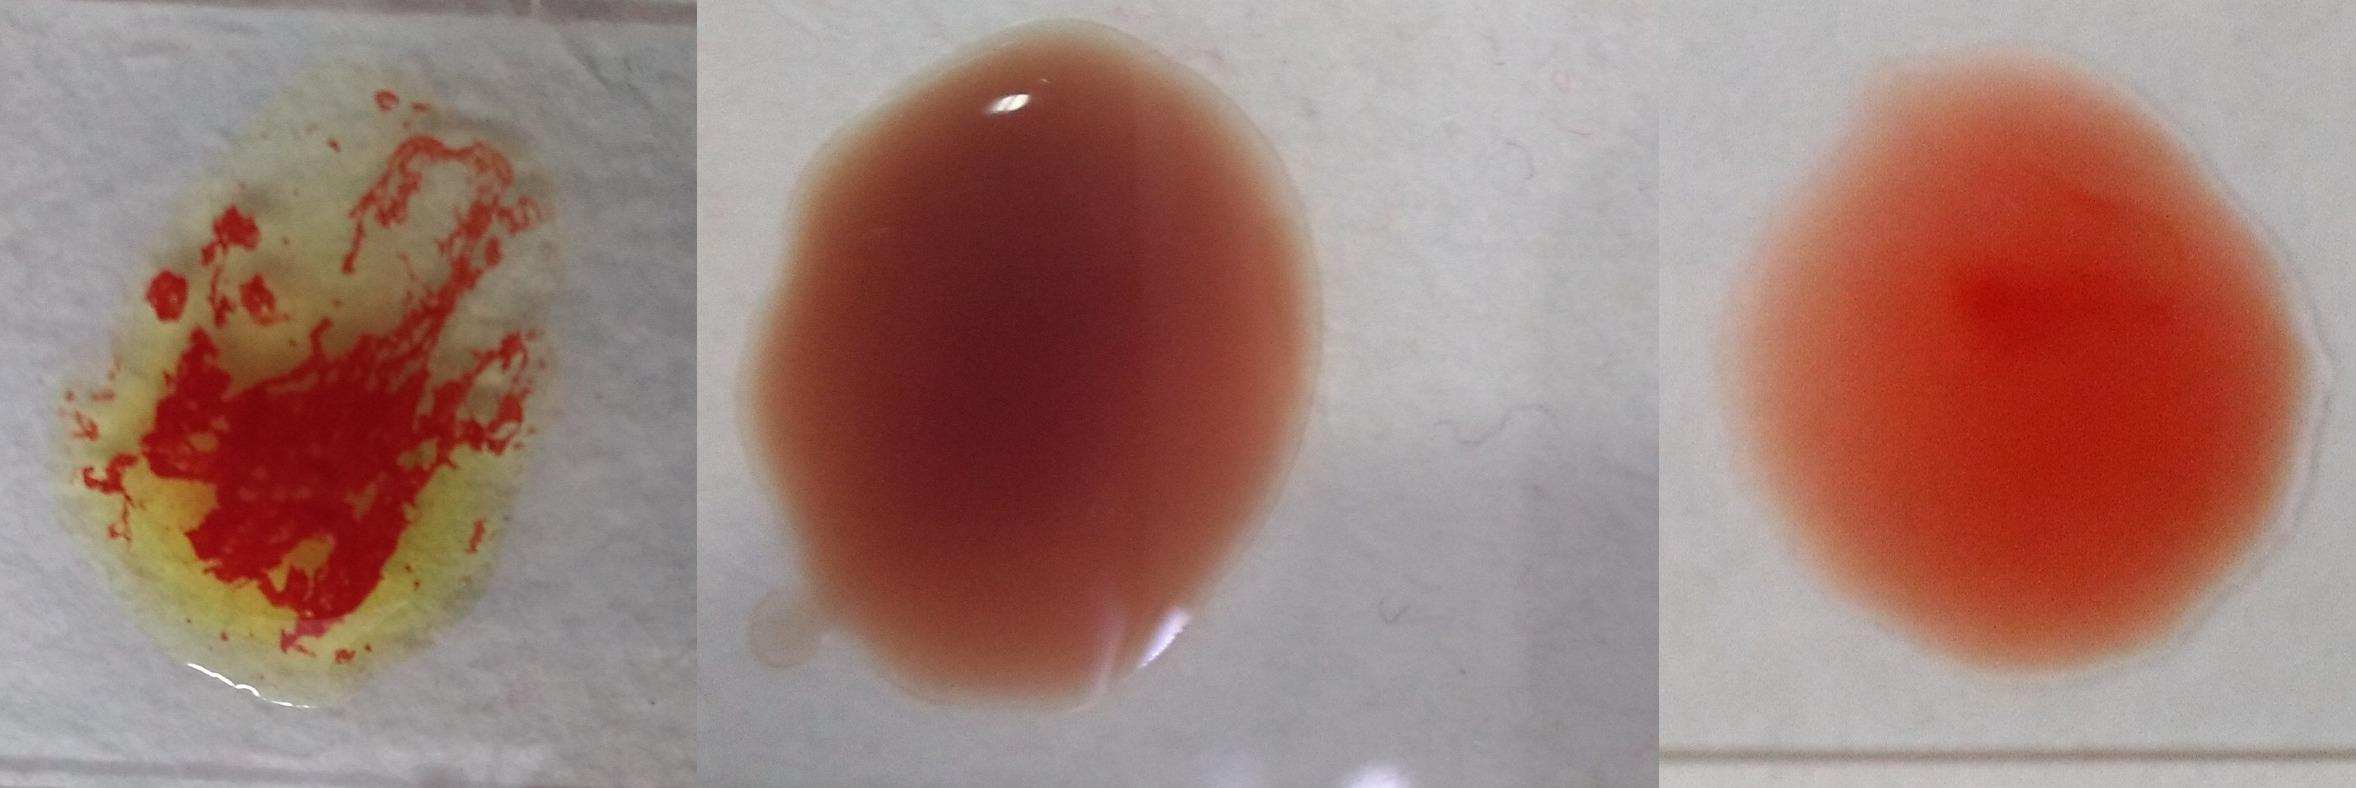B: (59, 108, 541, 698)
